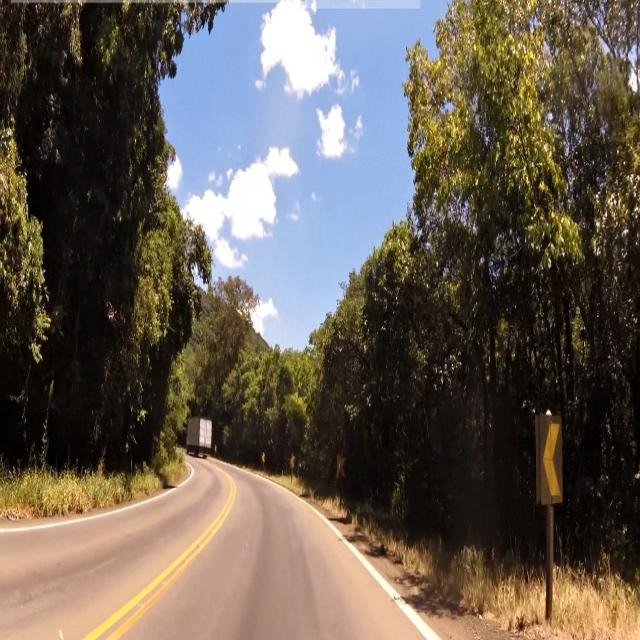Del: (532, 408, 569, 513)
